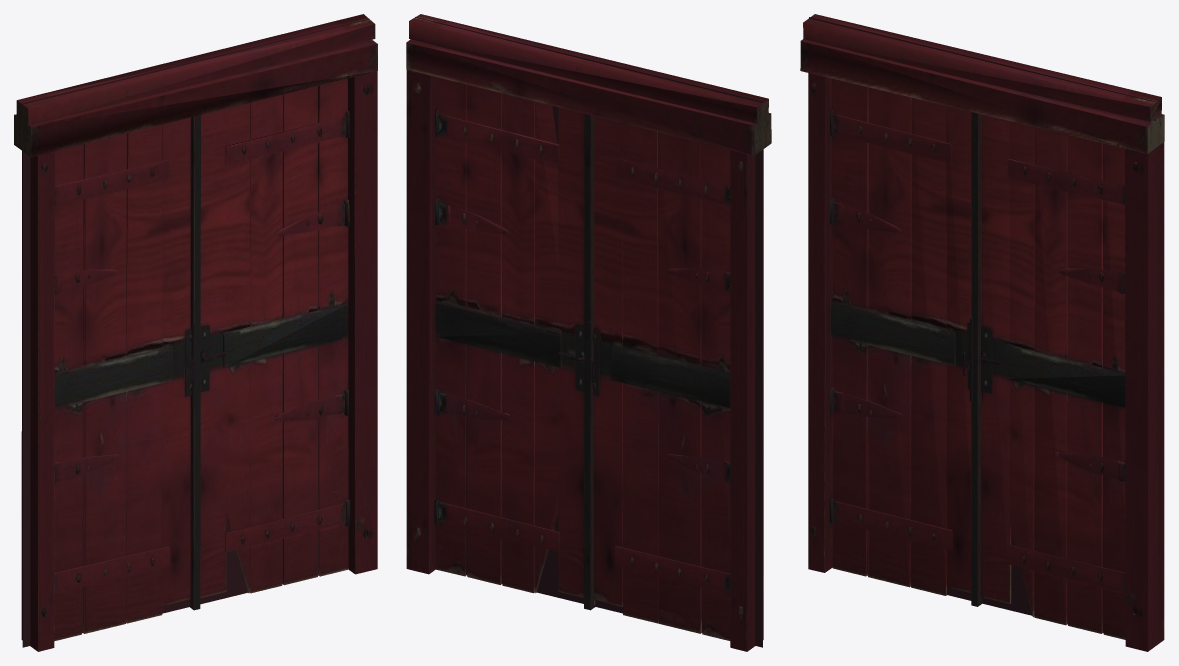
File: gate.glb
3 renders of one model, left to right at view 1: azimuth 30°, elevation 25°; view 2: azimuth 150°, elevation 25°; view 3: azimuth 330°, elevation 25°, orthographic.
Size of the model in its own units: 2 by 3 by 0.2.
Materials: 1 (1 with a texture image).
